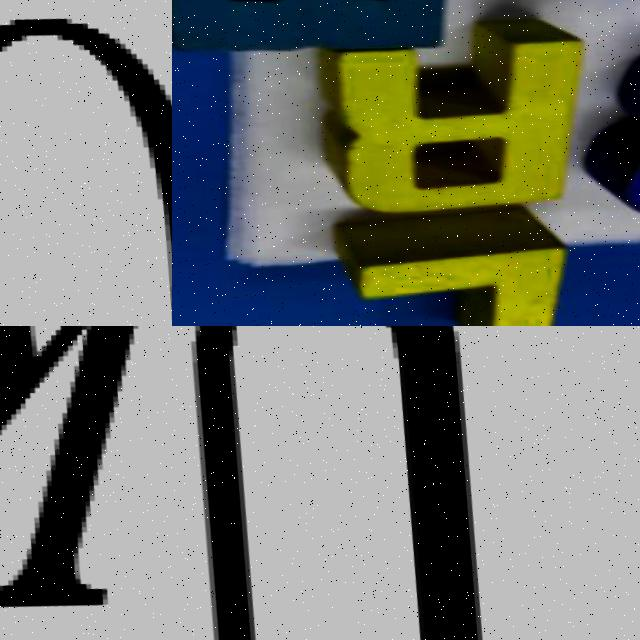K: (0, 326, 172, 640)
L: (342, 179, 591, 326)
M: (172, 0, 484, 87)
O: (0, 9, 172, 326)
R: (280, 0, 623, 242)
U: (172, 326, 560, 640)
